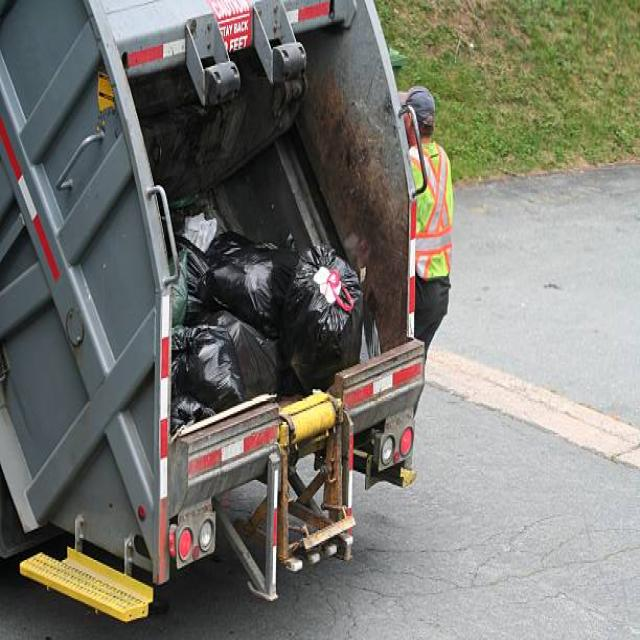trash: (166, 213, 361, 422)
